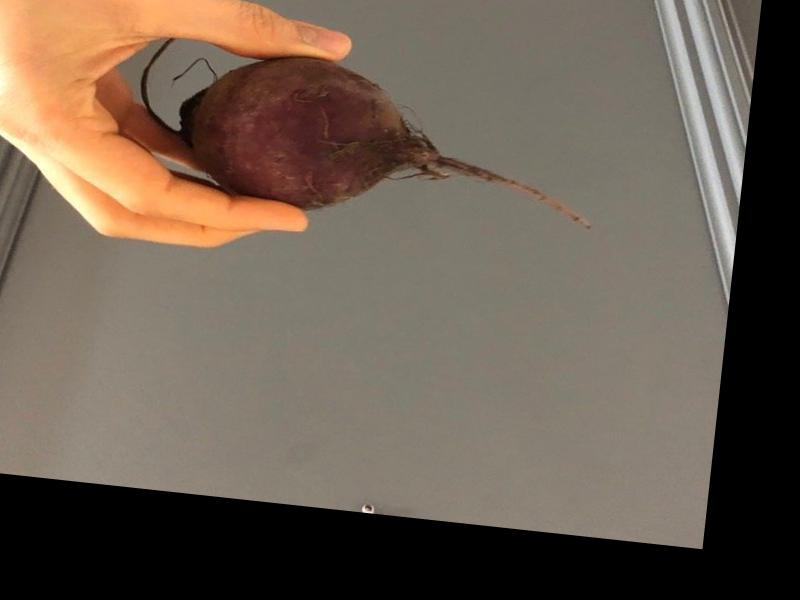Beet: (132, 37, 615, 237)
